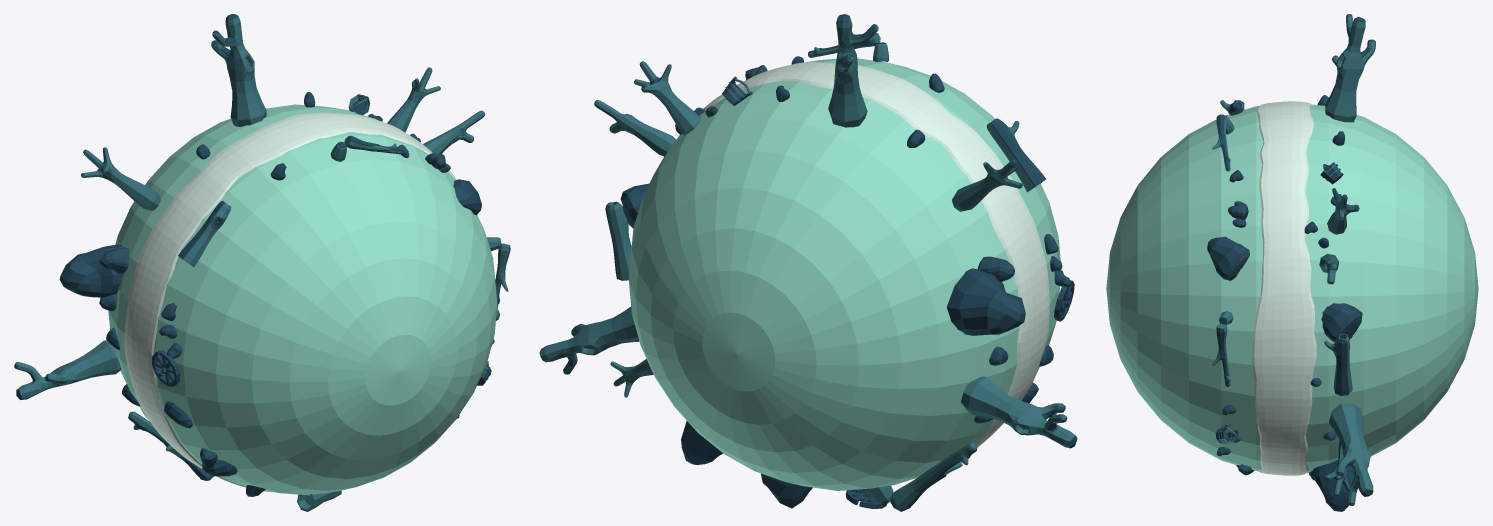
The model's file is cenario.fbx.
3 views of the same model, side by side, from view 1: azimuth 30°, elevation 25°; view 2: azimuth 150°, elevation 25°; view 3: azimuth 270°, elevation 25° (orthographic). The views are drawn at different scales.
Visible parts, largest first — view 1: Sphere, Cube.001, Vert.002, Vert.009, Cube.009, Vert.005, Vert.001, Vert.006, Vert.008, Vert, Vert.012, Cylinder (+3 smaller); view 2: Sphere, Cube.001, Cube.009, Vert.009, Vert.002, Vert.010, Vert.012, Vert.006, Vert.001, Vert.005, Vert.008, Vert.007 (+6 smaller); view 3: Sphere, Cube.001, Vert.002, Vert.010, Cube.023, Cube.018, Cube.031, Vert.007, Vert.006, Vert.011, Vert.
Boxes of the visible parts, x1,y1,x2,y2 form: Sphere: (108,104,497,495); Cube.001: (124,112,456,491); Vert.002: (211,14,266,126); Vert.009: (14,340,121,399); Cube.009: (59,244,122,297); Vert.005: (81,147,160,210); Vert.001: (178,201,231,267); Vert.006: (387,67,440,132); Vert.008: (423,110,485,153); Vert: (330,135,403,161); Vert.012: (128,411,213,480); Cylinder: (152,350,180,386); Sphere: (628,58,1060,490); Cube.001: (677,62,1049,446); Cube.009: (946,268,1025,335); Vert.009: (961,376,1077,448); Vert.002: (828,14,878,127); Vert.010: (539,306,639,374); Vert.012: (863,442,977,511); Vert.006: (634,61,700,135); Vert.001: (986,118,1045,192); Vert.005: (952,159,1022,211); Vert.008: (594,100,675,156); Vert.007: (605,201,631,280); Sphere: (1106,104,1478,473); Cube.001: (1251,101,1316,475); Vert.002: (1325,14,1375,122); Vert.010: (1329,403,1373,505); Cube.023: (1207,236,1249,280); Cube.018: (1321,303,1362,342); Cube.031: (1312,460,1354,511); Vert.007: (1324,333,1352,395); Vert.006: (1327,188,1359,234); Vert.011: (1212,311,1233,386); Vert: (1212,114,1234,171).
Bounding box in the file's own units: 987 × 907 × 693.
